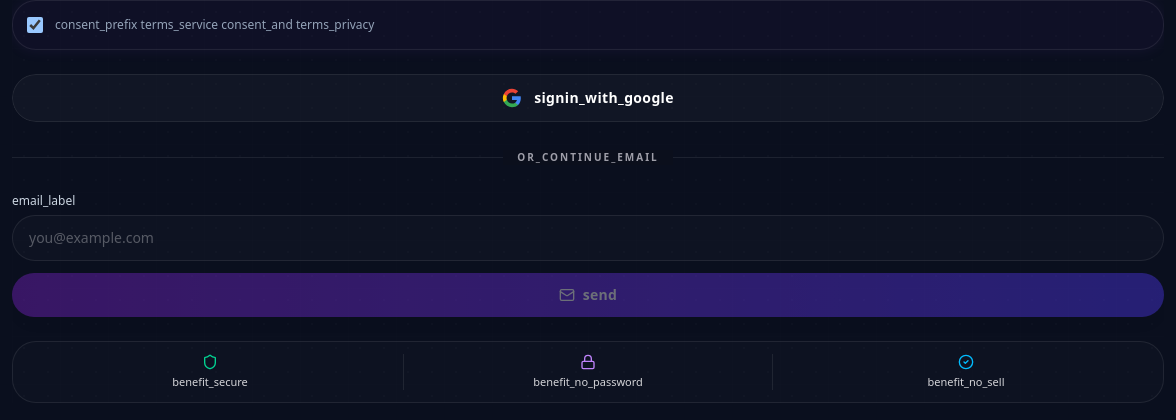
Test: SignInForm › unchecking consent checkbox disables google sign-in button
What coordinates should you click on to do the following:
click the checkbox
I would click on:
 (35, 25)
Its box is [27,17,43,33].
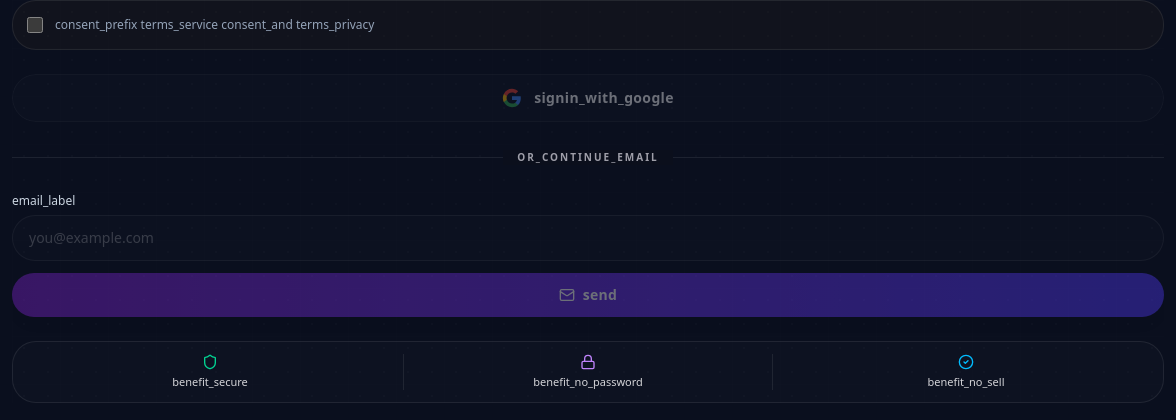
Result: the button "signin_with_google" is disabled at [12,74,1164,122]
